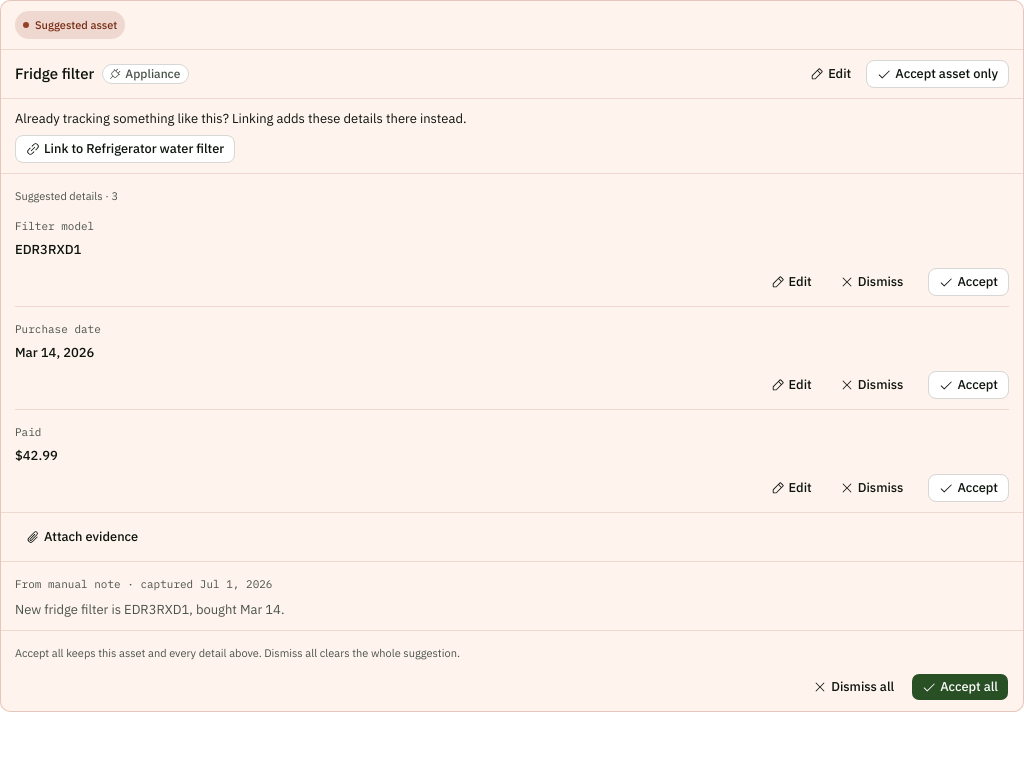
Test: AssetReviewGroupCard › refuses to accept a detail while its amount draft is invalid
This screenshot has width=1024, height=768.
Click the button with aria-label "Edit detail: Paid" at (791, 488), box [760,474,823,502]
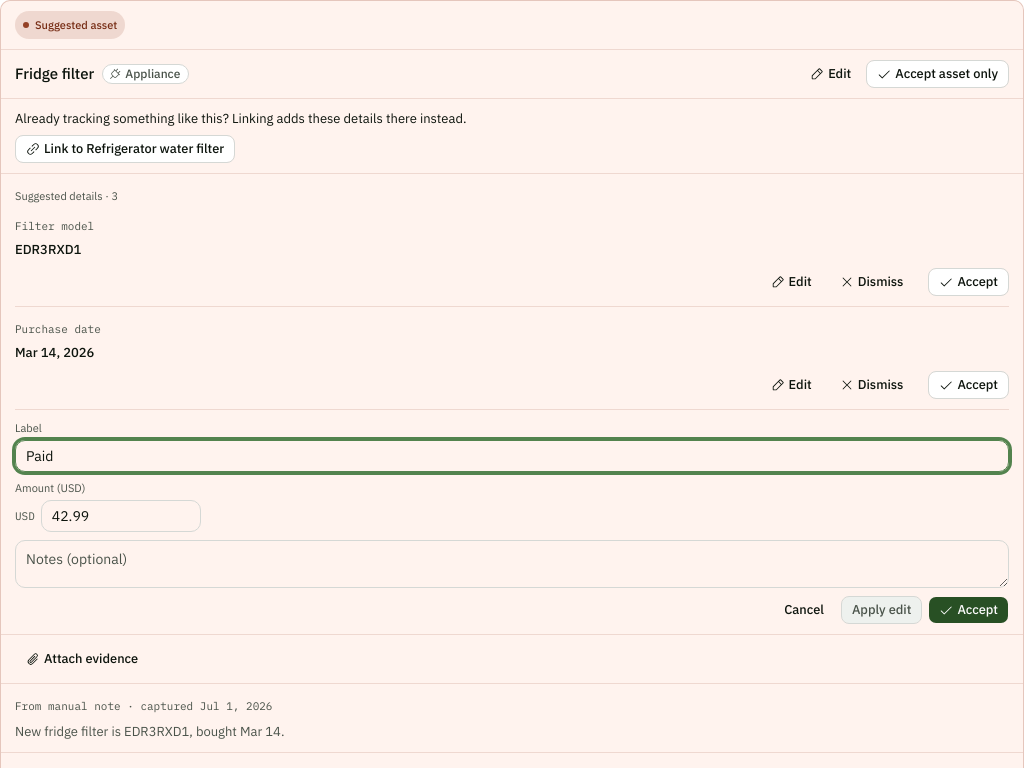
Replace the text in the number field labelled "Amount (USD)" with "-5" at (121, 516), box [41,500,201,532]
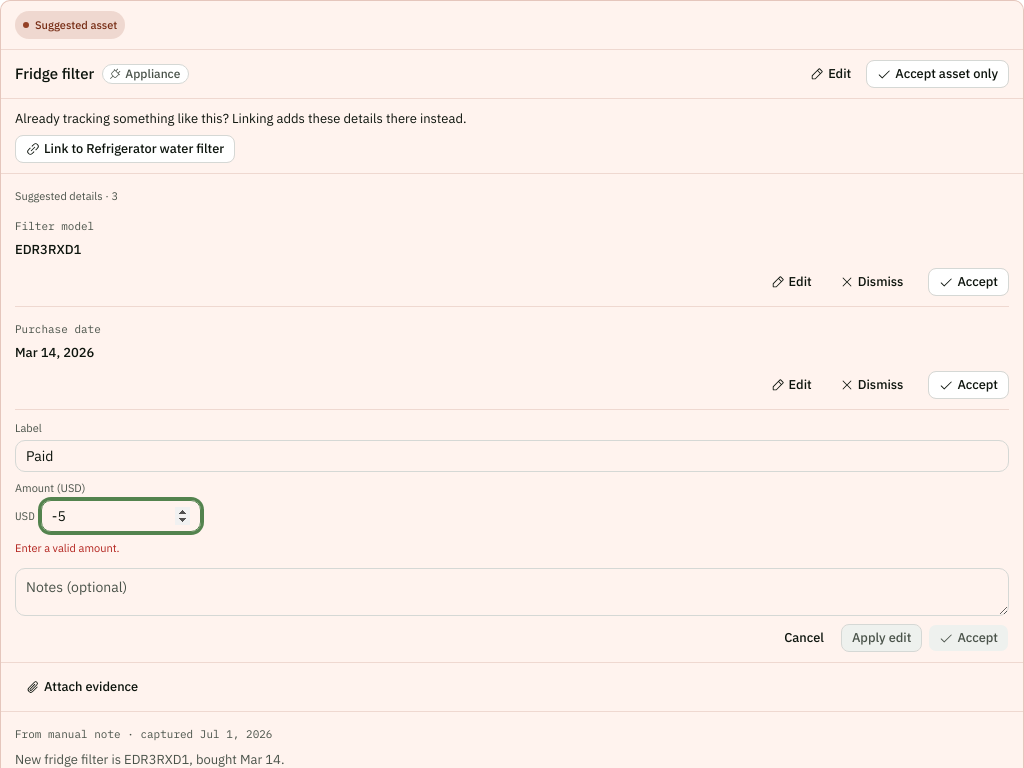
Result: the 3rd button "Accept" is disabled at [928,624,1009,652]
Result: the button "Apply edit" is disabled at [841,624,922,652]
Result: the message reads "Enter a valid amount." at [15,541,120,555]
